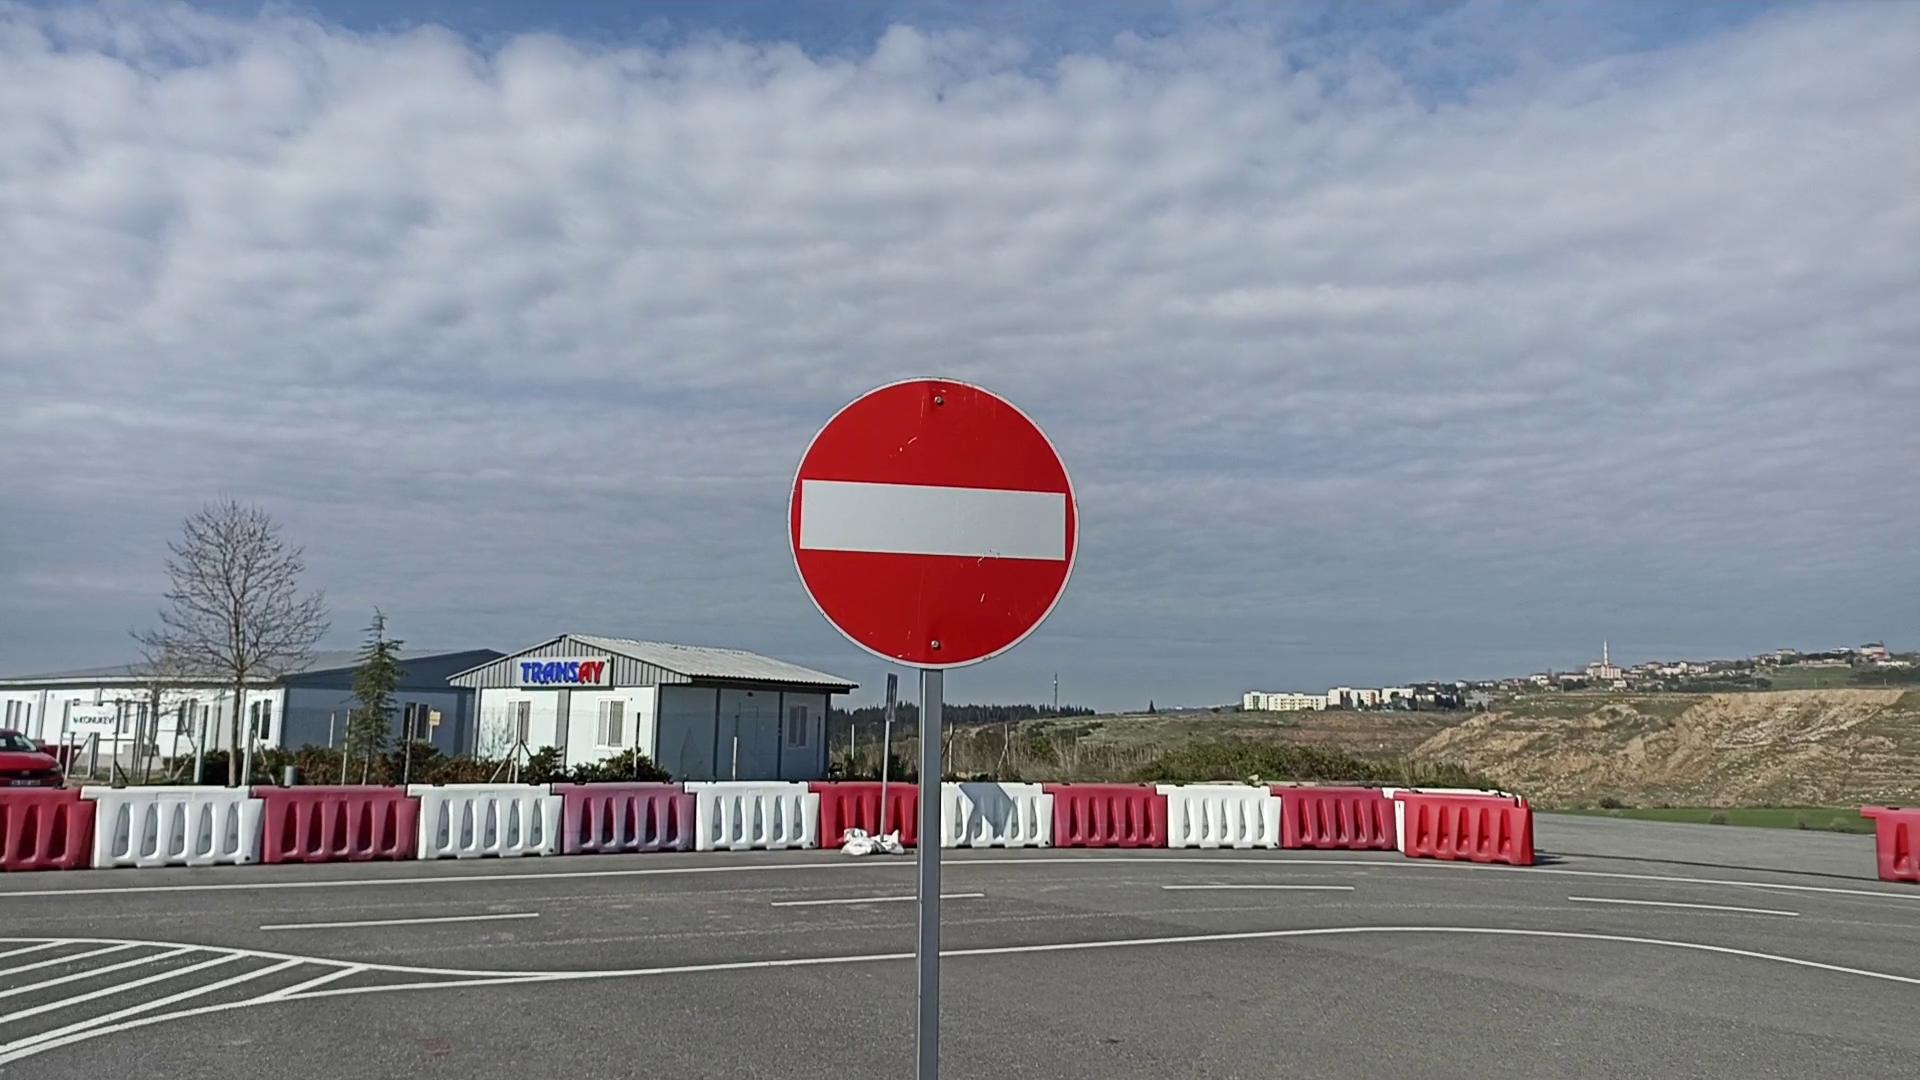noentryway: (781, 375, 1083, 679)
